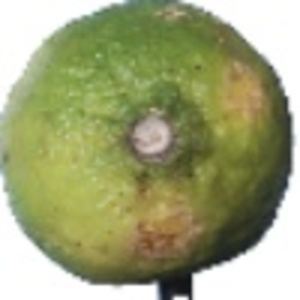limão: (1, 1, 296, 300)
